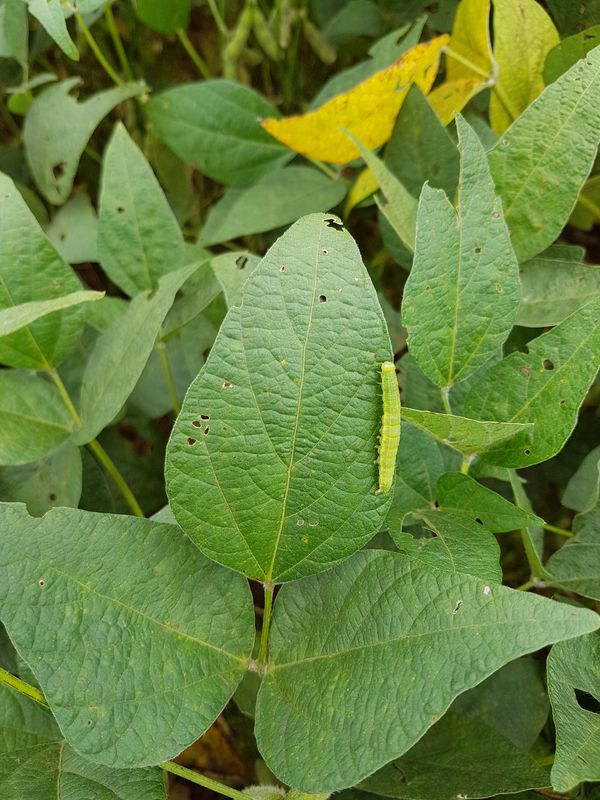Anticarsia_gemmatalis: (344, 350, 427, 503)
